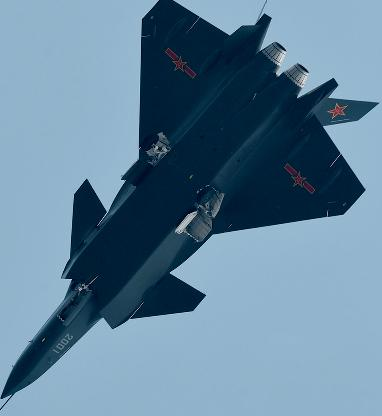F4: (0, 1, 381, 416)
